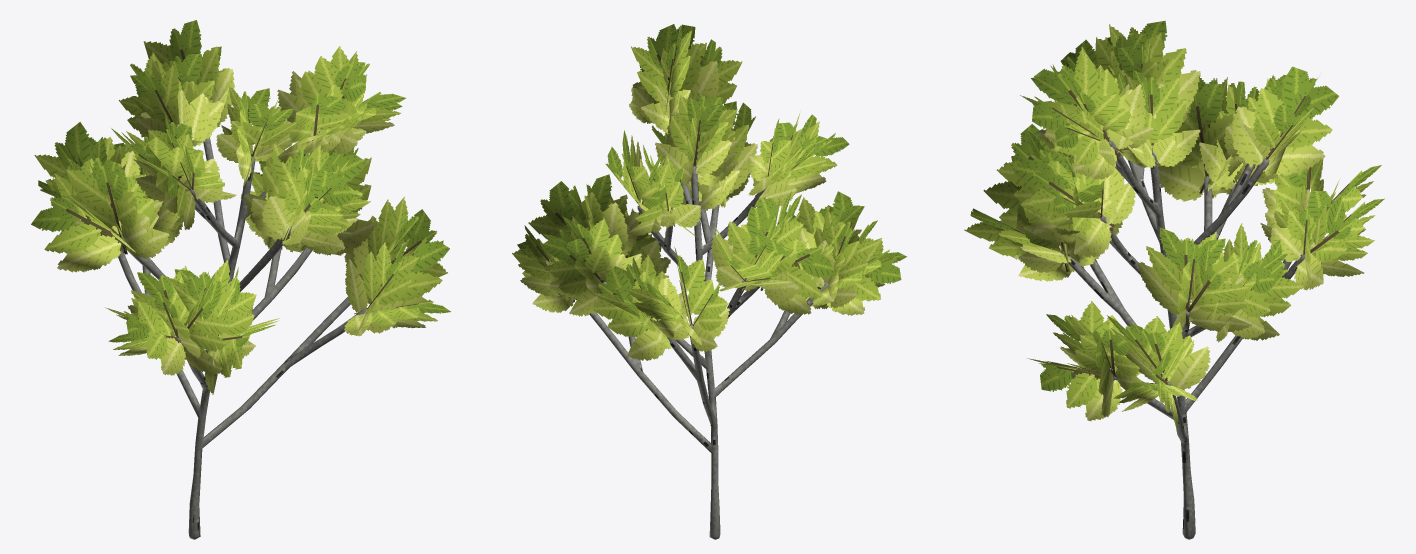
File: environment_elmsapling3_v12.fbx
The picture shows the model from 3 angles, left to right: view 1: azimuth 30°, elevation 25°; view 2: azimuth 150°, elevation 25°; view 3: azimuth 270°, elevation 25°; orthographic projection. The views are drawn at different scales.
Visible parts, largest first — view 1: environment_elmsapling3_v12_lod0; view 2: environment_elmsapling3_v12_lod0; view 3: environment_elmsapling3_v12_lod0.
Part boxes in pixels (box(x1,y1,x2,y2)): environment_elmsapling3_v12_lod0: box(31, 20, 450, 539); environment_elmsapling3_v12_lod0: box(512, 24, 906, 539); environment_elmsapling3_v12_lod0: box(964, 20, 1384, 539).
Size of what is drawn, in the model's own units: 177 by 216 by 160.
Materials: 2 (2 with a texture image).
